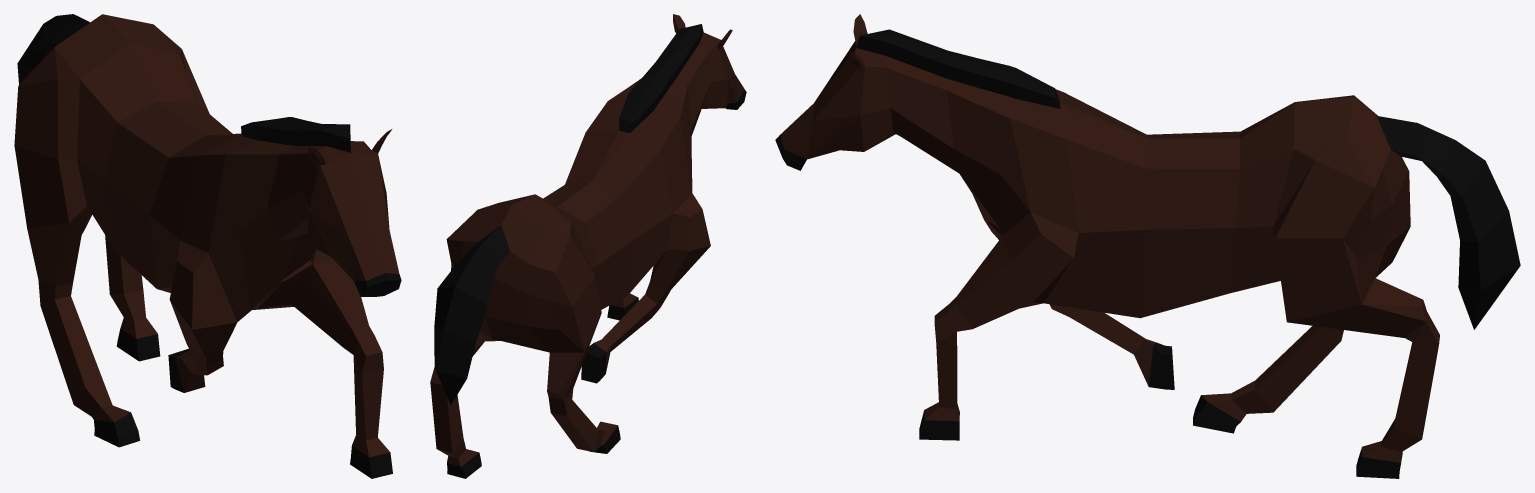
The model's file is Horse_000008.obj.
3 renders of one model, left to right at view 1: azimuth 30°, elevation 25°; view 2: azimuth 150°, elevation 25°; view 3: azimuth 270°, elevation 25°, orthographic. The views are drawn at different scales.
Parts seen in each view (by area): view 1: Horse_Cylinder; view 2: Horse_Cylinder; view 3: Horse_Cylinder.
Part boxes in pixels (x1,y1,x2,y2): Horse_Cylinder: (14, 14, 401, 478); Horse_Cylinder: (430, 14, 746, 478); Horse_Cylinder: (775, 14, 1520, 478).
Bounding box in the file's own units: 2.62 × 6.13 × 9.85.
